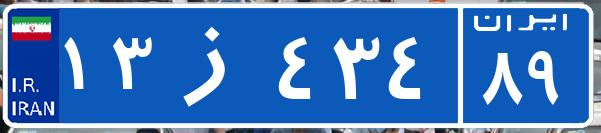1: (57, 26, 110, 107)
3: (330, 28, 385, 110), (110, 28, 158, 105)
4: (385, 28, 445, 110), (273, 28, 330, 110)
8: (475, 38, 525, 113)
9: (525, 38, 570, 115)
ز: (158, 15, 273, 115)
